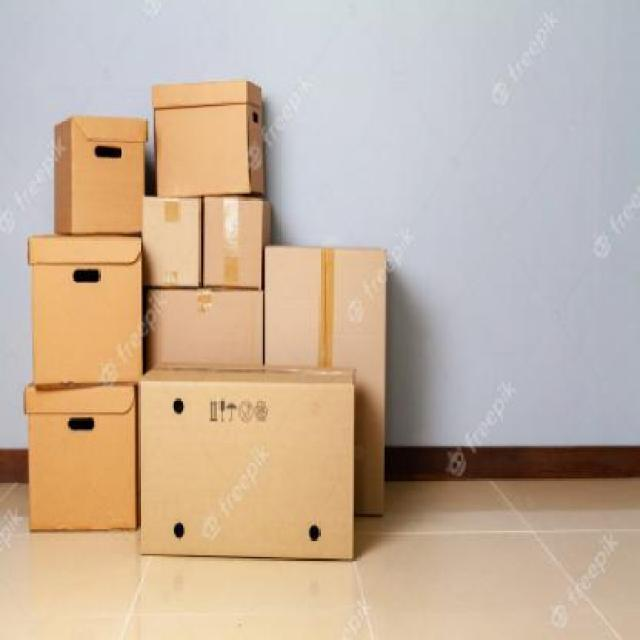box: (138, 358, 359, 570), (267, 242, 383, 520), (30, 238, 153, 378), (24, 388, 138, 528), (149, 83, 271, 197), (52, 109, 143, 235), (135, 289, 268, 371), (203, 191, 271, 296), (138, 186, 204, 292)
